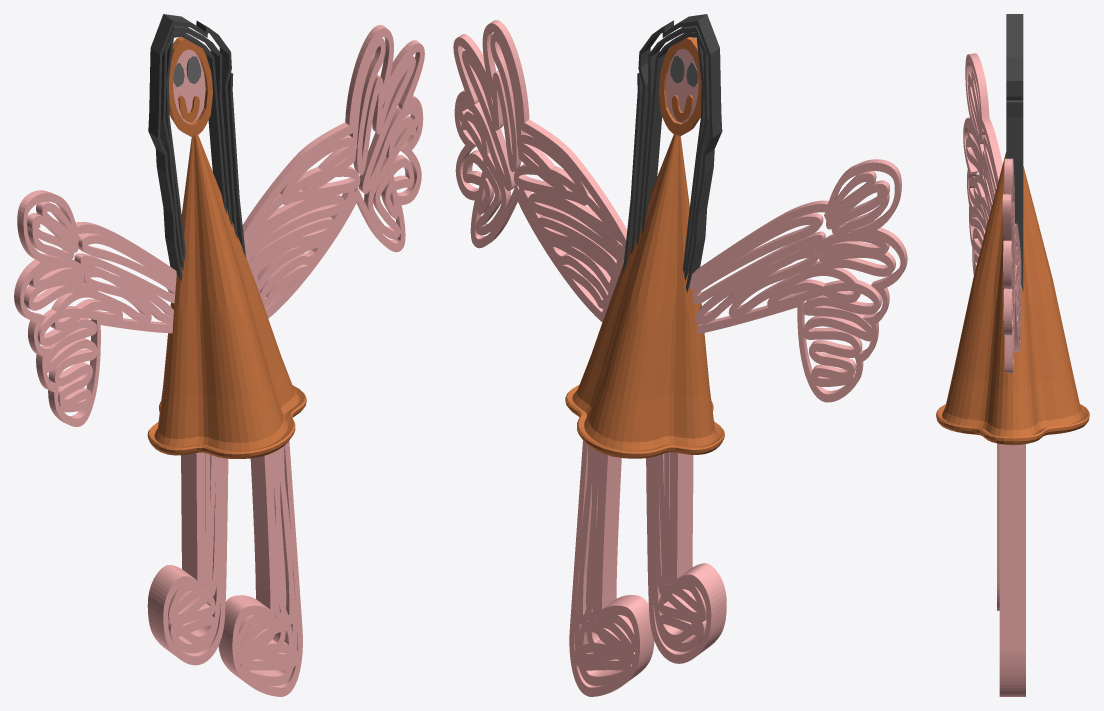
The picture shows the model from 3 angles, left to right: view 1: azimuth 30°, elevation 25°; view 2: azimuth 150°, elevation 25°; view 3: azimuth 270°, elevation 25°; orthographic projection. The views are drawn at different scales.
Parts seen in each view (by area): view 1: 8; view 2: 8; view 3: 8.
Part boxes in pixels (bbox=[...]): 8: bbox=[14, 14, 424, 696]; 8: bbox=[453, 14, 907, 696]; 8: bbox=[936, 14, 1089, 696].
Bounding box in the file's own units: 0.6759 × 1.05 × 0.2316.
